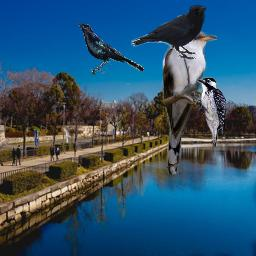Crow: (131, 5, 206, 60), (77, 23, 144, 75)
Cuckoo: (161, 29, 217, 174)
Woodpecker: (196, 77, 226, 147)
